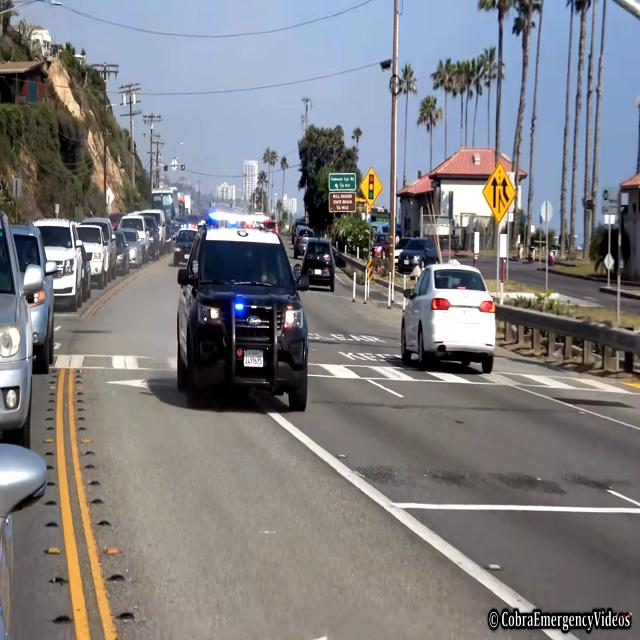emergency-vehicles: (160, 189, 329, 427)
